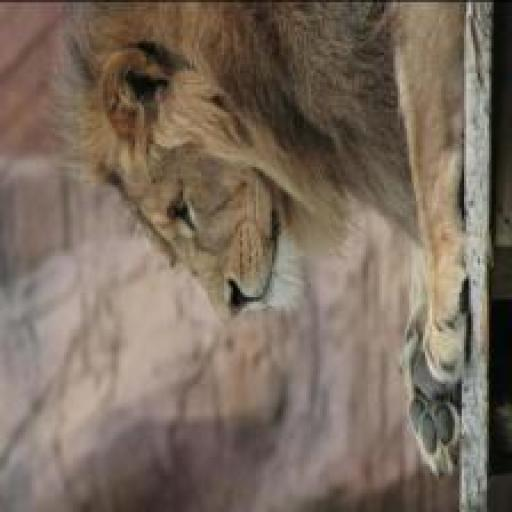lion: (52, 2, 476, 494)
